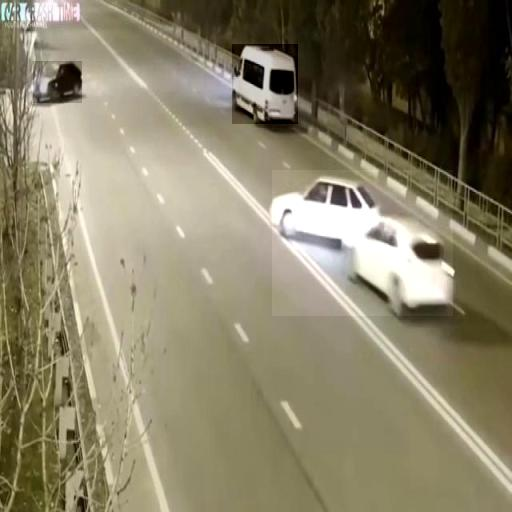小汽车: (232, 44, 298, 124), (33, 61, 82, 103)
小汽车撞小汽车: (272, 170, 453, 316)
